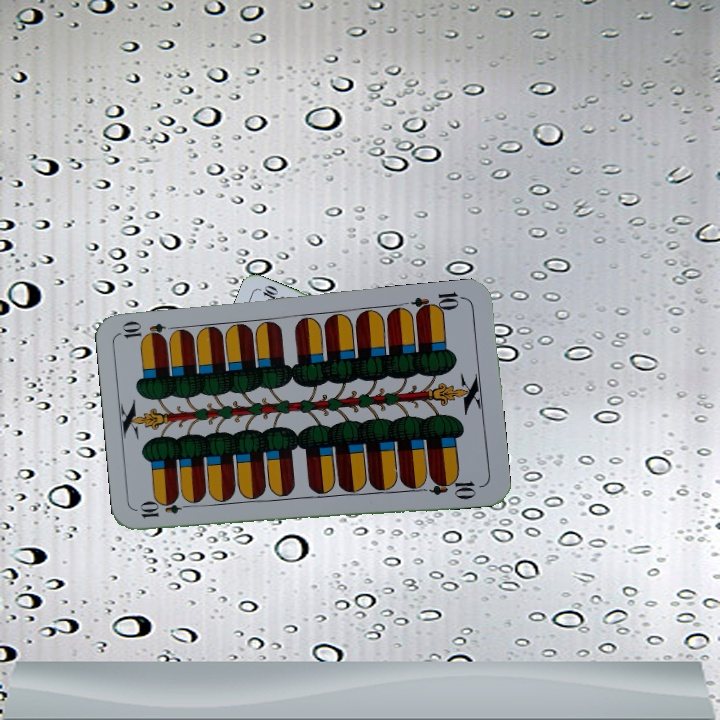E10: (408, 288, 467, 318), (136, 498, 195, 521)
